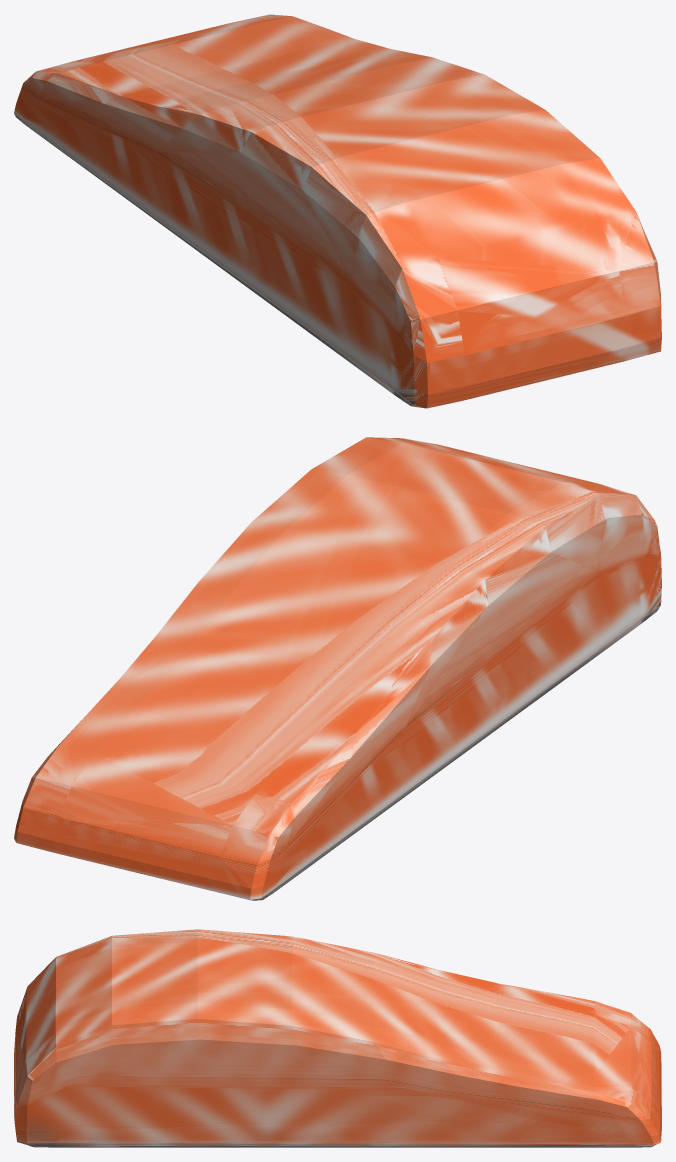
The model's file is salmon.fbx.
The picture shows the model from 3 angles, top to bottom: view 1: azimuth 30°, elevation 25°; view 2: azimuth 150°, elevation 25°; view 3: azimuth 270°, elevation 25°; orthographic projection. The views are drawn at different scales.
Parts seen in each view (by area): view 1: Cube; view 2: Cube; view 3: Cube.
Boxes of the visible parts, x1,y1,x2,y2 form: Cube: (14, 14, 661, 408); Cube: (14, 437, 661, 900); Cube: (14, 929, 661, 1147).
Bounding box in the file's own units: 200 × 127 × 576.
Materials: 1 (1 with a texture image).
